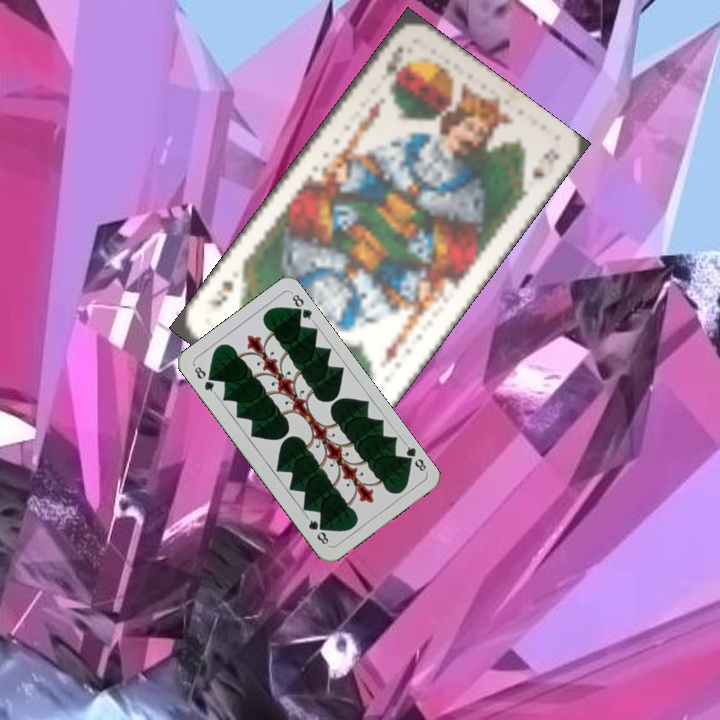G8: (399, 439, 429, 474), (190, 361, 218, 396)
SK: (381, 43, 410, 77)
